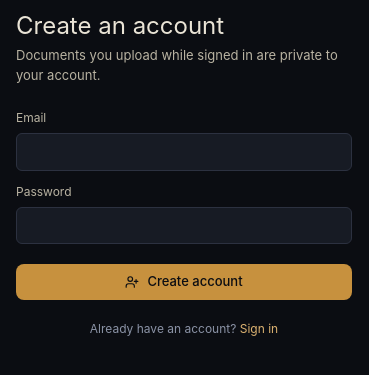
Test: RegisterPage › clears the warning and re-enables submit once the password reaches 8 characters
This screenshot has width=369, height=375.
Type "short" into the password field labelled "Password".
click(184, 225); type("short")  # box [16,206,352,244]
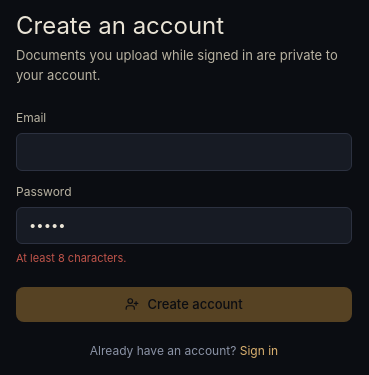
Now the text "At least 8 characters." is shown, box [16,251,126,265]
Type "er" into the password field labelled "Password".
click(184, 225); type("er")  # box [16,206,352,244]
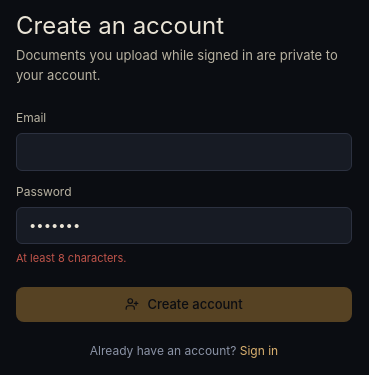
Now the text "At least 8 characters." is shown, box [16,251,126,265]
Type "1" into the password field labelled "Password".
click(184, 225); type("1")  # box [16,206,352,244]
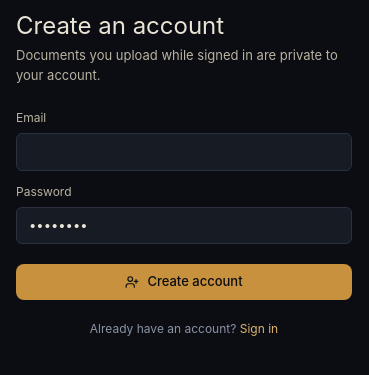
Now the text "At least 8 characters." is gone
Now the button "Create account" is enabled, box [16,264,352,300]
